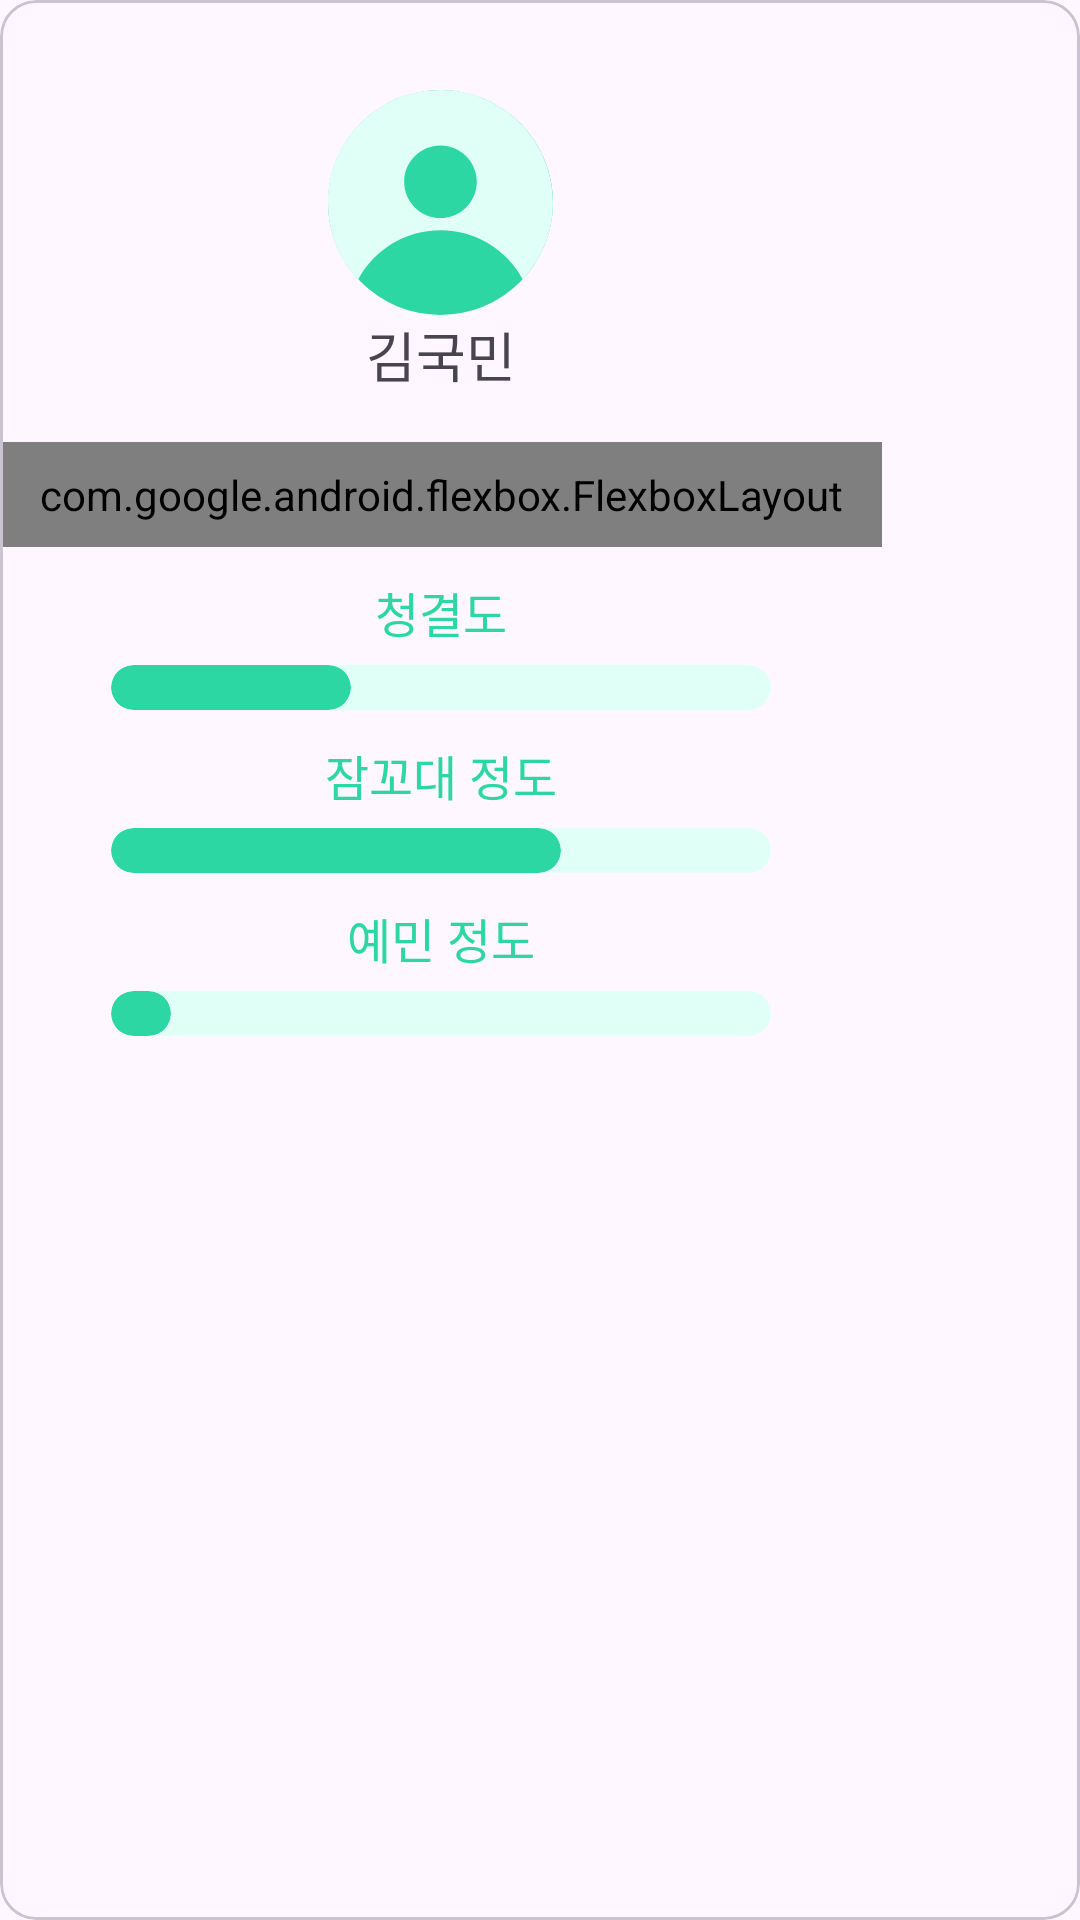

Locate icon controls on the screen. Image size 1080×1920, boxes as (x1, y1, x2, y2).
profile reverse: (328, 90, 553, 315)
